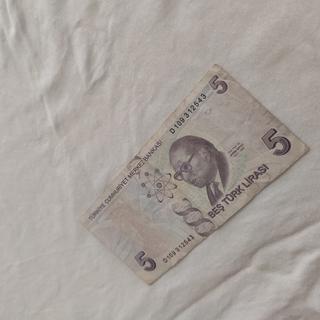5TLBack: (77, 62, 310, 287)
